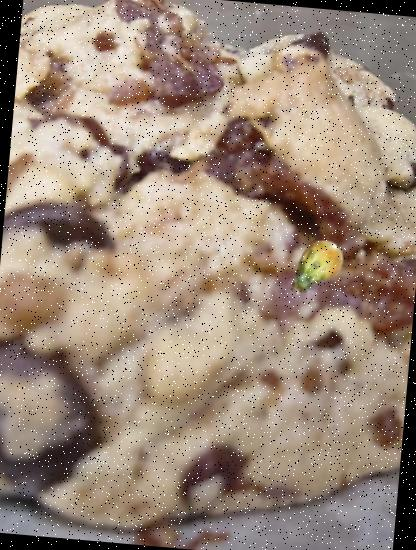Cactus: (281, 234, 353, 306)
